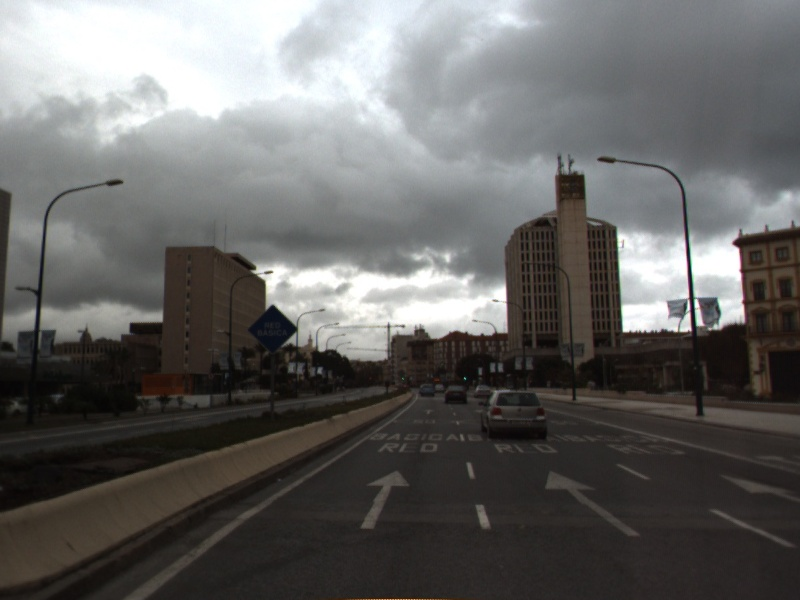STRAIGHT: (542, 467, 643, 538), (357, 468, 413, 531), (718, 472, 800, 502), (422, 407, 437, 416)
